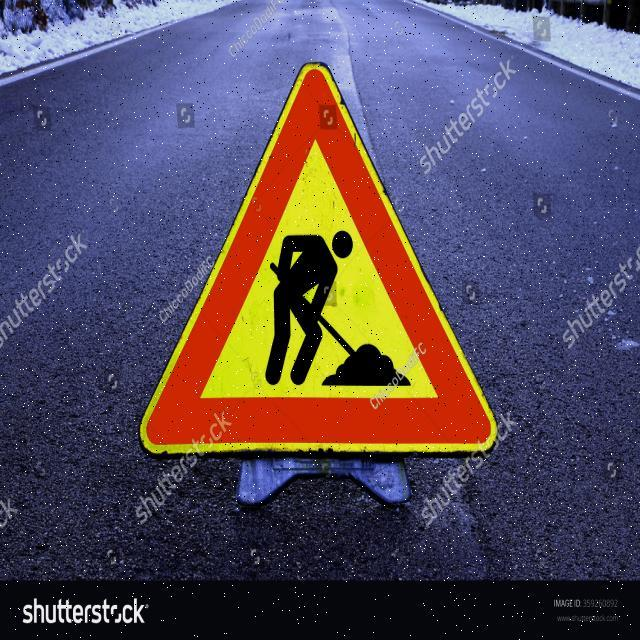Traffic sign: (127, 51, 503, 470)
